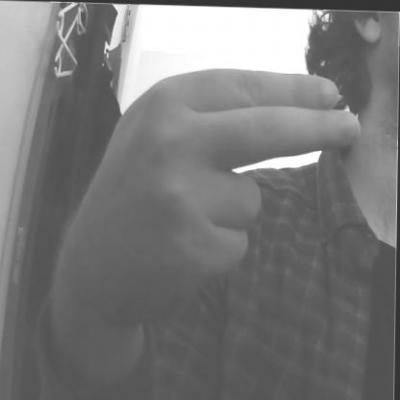hand: (54, 65, 361, 325)
